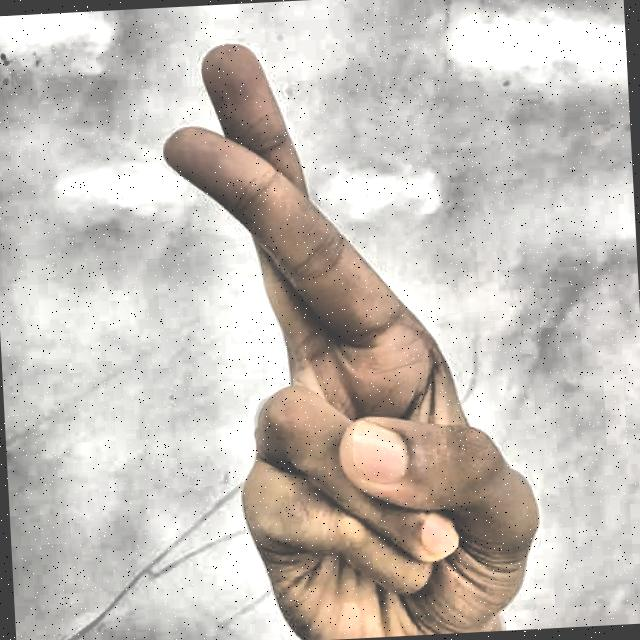Ra: (119, 1, 564, 640)
